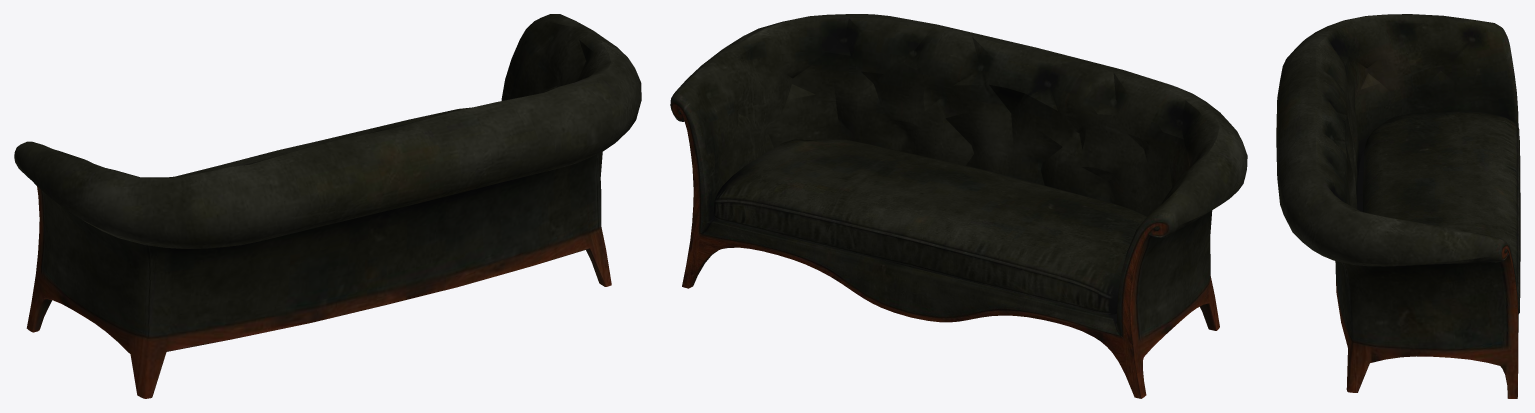
File: sofa-victorian-b.glb
The picture shows the model from 3 angles, left to right: view 1: azimuth 30°, elevation 25°; view 2: azimuth 150°, elevation 25°; view 3: azimuth 270°, elevation 25°; orthographic projection. The views are drawn at different scales.
Parts seen in each view (by area): view 1: sofa-victorian-b; view 2: sofa-victorian-b; view 3: sofa-victorian-b.
Boxes of the visible parts, x1,y1,x2,y2 form: sofa-victorian-b: [14, 14, 641, 398]; sofa-victorian-b: [670, 14, 1247, 398]; sofa-victorian-b: [1276, 14, 1520, 398].
Size of the model in its own units: 1.81 by 0.7095 by 0.8178.
1 material, 1 textured.
